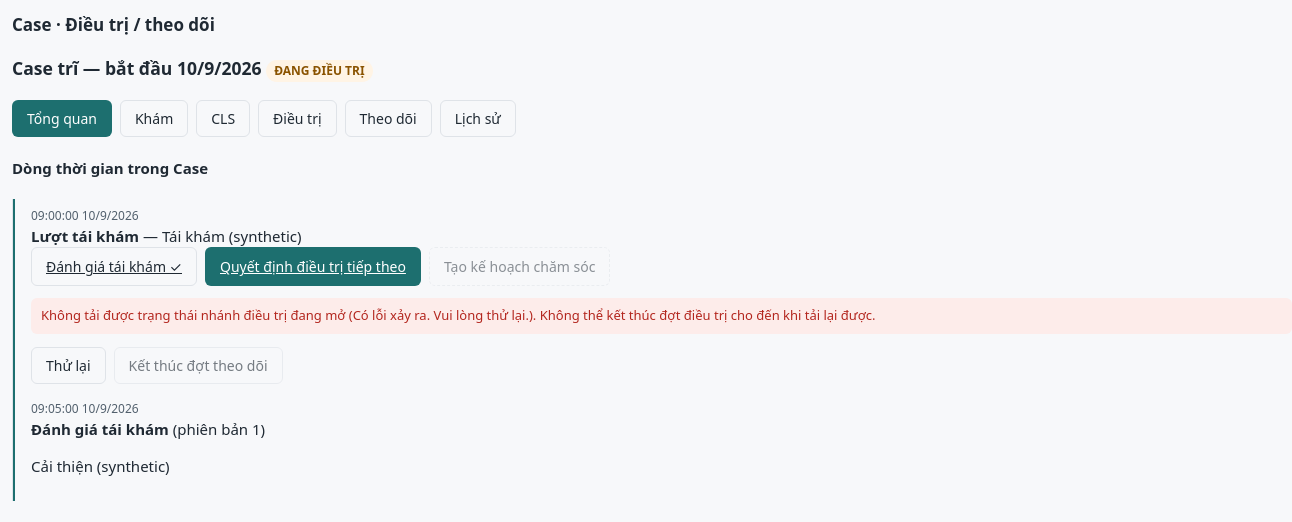
LongoEpisodeWorkspace — Hemorrhoid Vertical Slice 3 continuous-care loop › T11 P1-01 (6): if the pathway query errors, the error is surfaced and close is unavailable until reload
Expected: the text "Không tải được trạng thái nhánh điều trị đang mở" is shown, [41,306,345,324]
Expected: the button "Kết thúc đợt theo dõi" is disabled, [114,347,282,384]
Retry resolves the state and re-enables close.
What coordinates should you click on to do the following:
click the button "Thử lại"
I would click on:
 (68, 366)
Its box is [31,347,106,384].
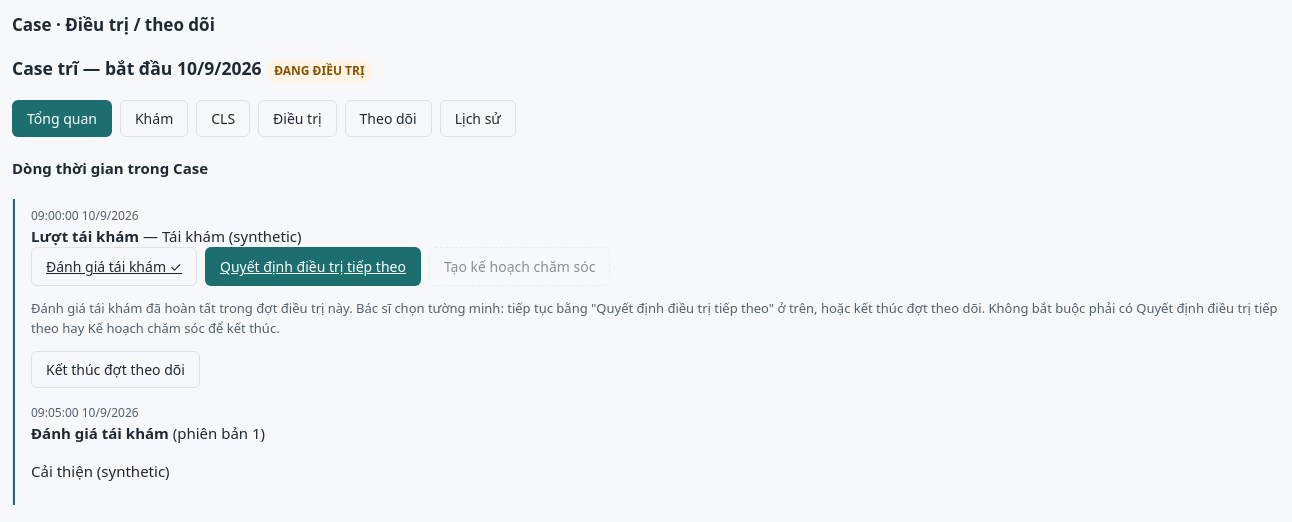
Now the button "Kết thúc đợt theo dõi" is enabled, box [31,352,200,388]
